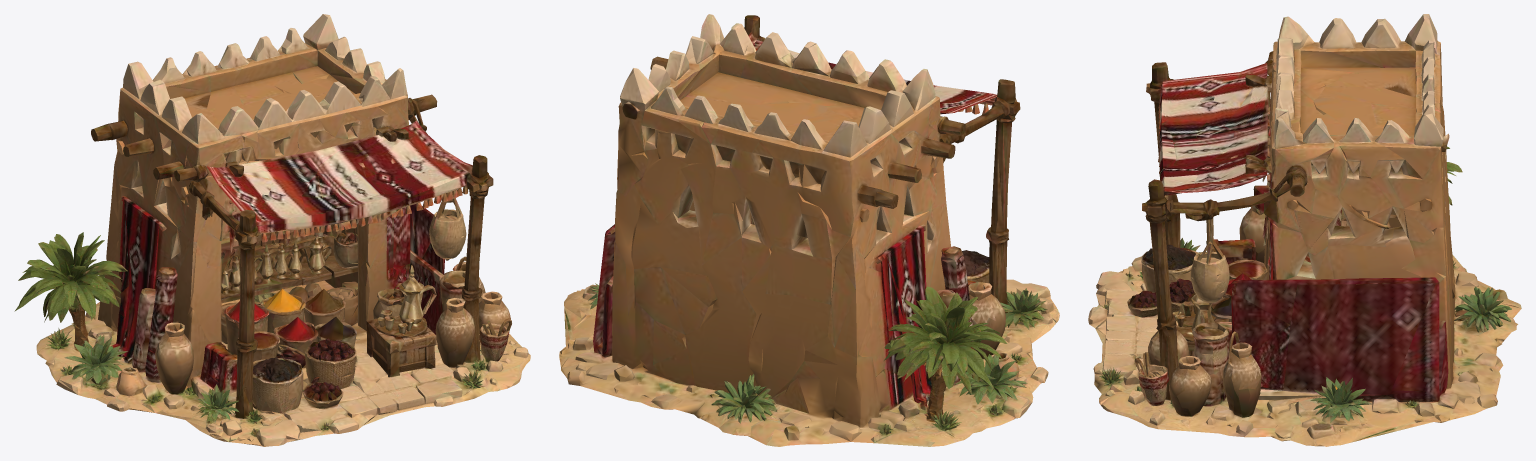
File: souq.glb
The picture shows the model from 3 angles, left to right: view 1: azimuth 30°, elevation 25°; view 2: azimuth 150°, elevation 25°; view 3: azimuth 270°, elevation 25°; orthographic projection. The views are drawn at different scales.
Parts seen in each view (by area): view 1: souq; view 2: souq; view 3: souq.
Boxes of the visible parts, box(x1,y1,x2,y2) form: souq: box(14, 14, 530, 446); souq: box(559, 14, 1059, 446); souq: box(1088, 14, 1521, 446).
Size of the model in its own units: 1.91 by 1.15 by 1.61.
Materials: 1 (1 with a texture image).
